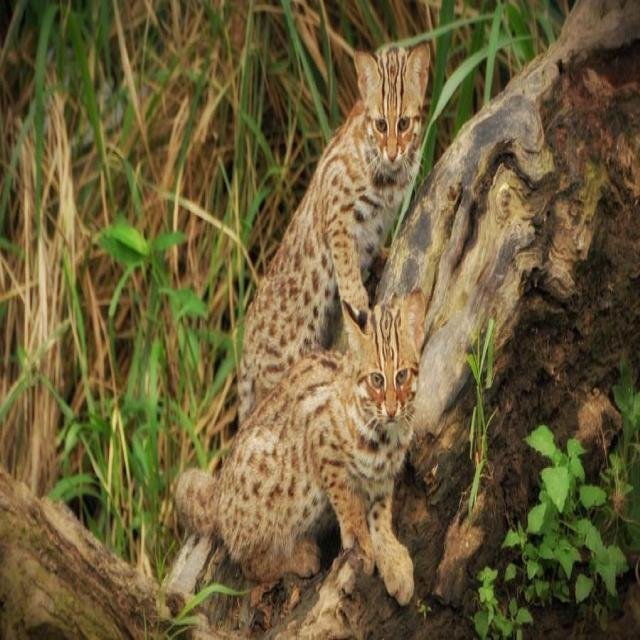leopard: (234, 339, 414, 576), (324, 28, 429, 306)
